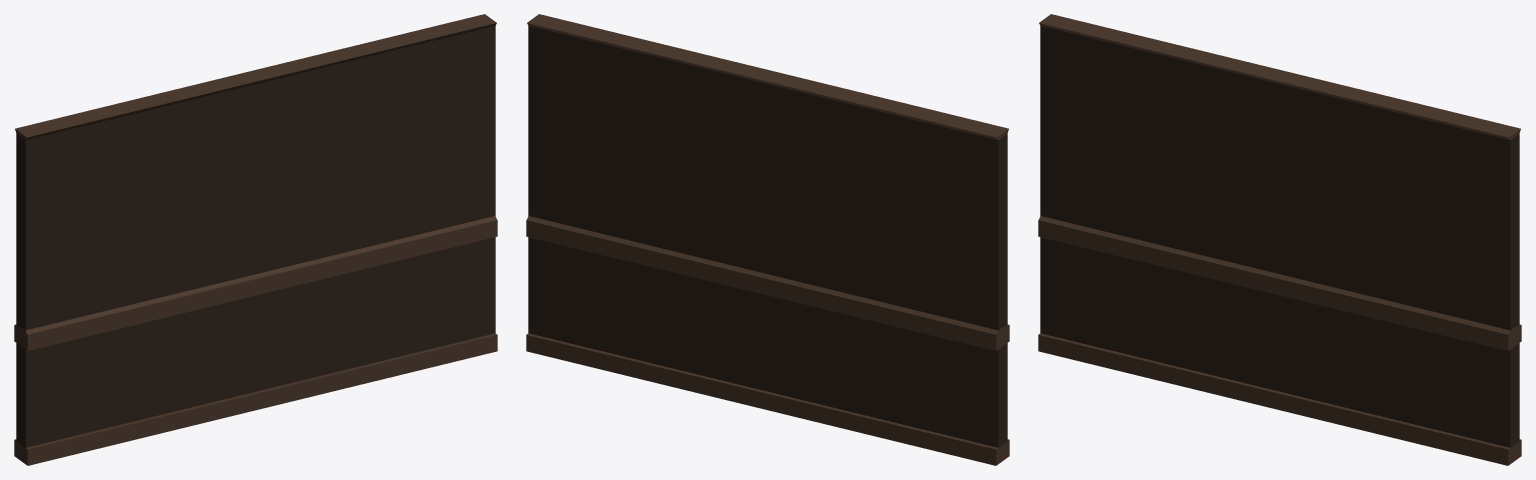
File: Wall_7_Dark_Brown.fbx
3 views of the same model, side by side, from view 1: azimuth 30°, elevation 25°; view 2: azimuth 150°, elevation 25°; view 3: azimuth 330°, elevation 25° (orthographic).
Visible parts, largest first — view 1: Wall_7_Dark_Brown; view 2: Wall_7_Dark_Brown; view 3: Wall_7_Dark_Brown.
Part boxes in pixels (x1,y1,x2,y2): Wall_7_Dark_Brown: [14, 14, 497, 465]; Wall_7_Dark_Brown: [526, 14, 1009, 465]; Wall_7_Dark_Brown: [1038, 14, 1521, 465].
Size of the model in its own units: 600 by 400 by 30.
